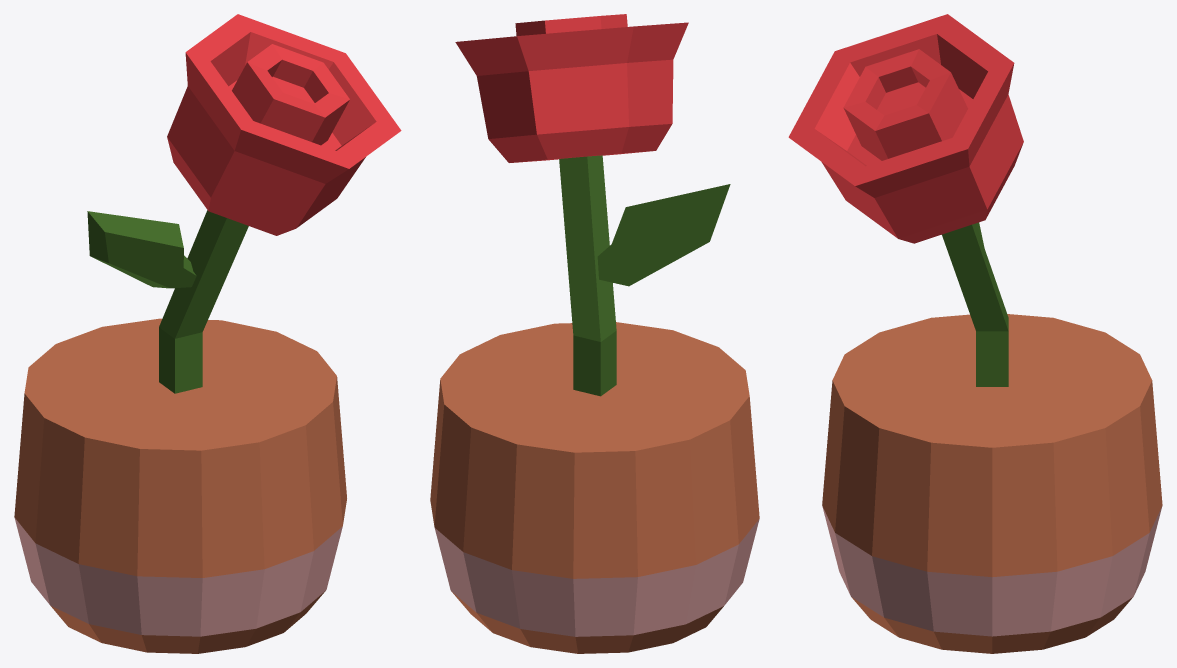
The model's file is rose.glb.
3 views of the same model, side by side, from view 1: azimuth 30°, elevation 25°; view 2: azimuth 150°, elevation 25°; view 3: azimuth 270°, elevation 25° (orthographic). The views are drawn at different scales.
Parts seen in each view (by area): view 1: Cylinder.001, Cylinder.002, Cylinder.003, Cube.003, Plane; view 2: Cylinder.001, Cylinder.002, Cube.003, Plane, Cylinder.003; view 3: Cylinder.001, Cylinder.002, Cylinder.003, Cube.003.
Part boxes in pixels (x1,y1,x2,y2): Cylinder.001: [14, 318, 346, 653]; Cylinder.002: [167, 14, 401, 235]; Cylinder.003: [232, 44, 349, 145]; Cube.003: [159, 210, 248, 393]; Plane: [87, 211, 196, 288]; Cylinder.001: [430, 322, 759, 653]; Cylinder.002: [455, 22, 688, 162]; Cube.003: [559, 155, 616, 396]; Plane: [597, 184, 730, 286]; Cylinder.003: [515, 14, 627, 35]; Cylinder.001: [822, 314, 1162, 653]; Cylinder.002: [788, 14, 1023, 243]; Cylinder.003: [843, 49, 967, 160]; Cube.003: [942, 223, 1008, 386].
Bounding box in the file's own units: 4 × 7.26 × 4.28.
